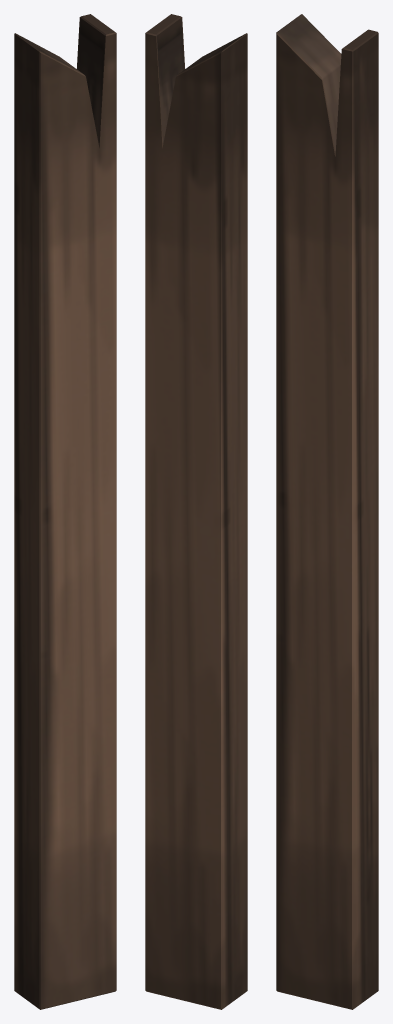
Rendered from Z1_Tall_Wood_Pillar.FBX.
The picture shows the model from 3 angles, left to right: view 1: azimuth 30°, elevation 25°; view 2: azimuth 150°, elevation 25°; view 3: azimuth 330°, elevation 25°; orthographic projection.
Parts seen in each view (by area): view 1: Z1_Tall_Wood_Pillar; view 2: Z1_Tall_Wood_Pillar; view 3: Z1_Tall_Wood_Pillar.
Boxes of the visible parts, <box> form: Z1_Tall_Wood_Pillar: <box>14,14,116,1009</box>; Z1_Tall_Wood_Pillar: <box>145,14,247,1009</box>; Z1_Tall_Wood_Pillar: <box>276,14,378,1009</box>.
Bounding box in the file's own units: 23.62 × 280 × 13.81.
